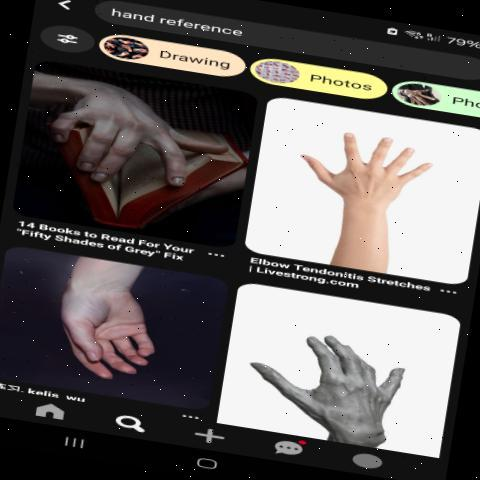Hands: (42, 75, 240, 220), (242, 308, 425, 438), (292, 103, 449, 240), (46, 263, 186, 389)
